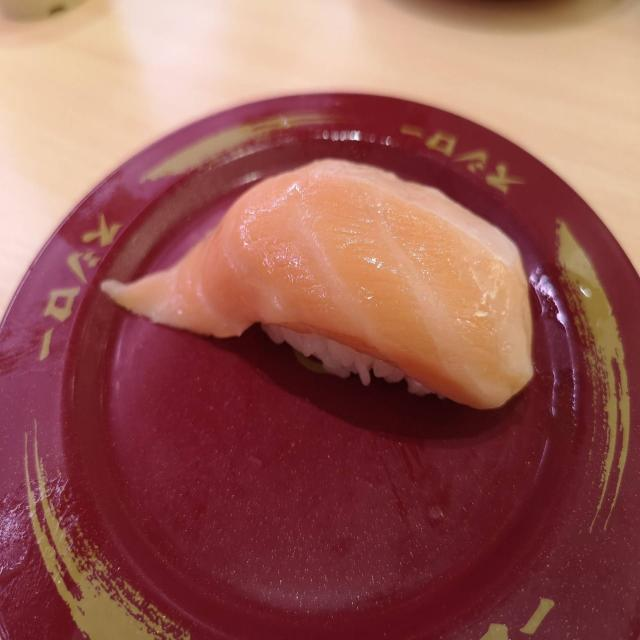janred: (57, 105, 598, 640)
